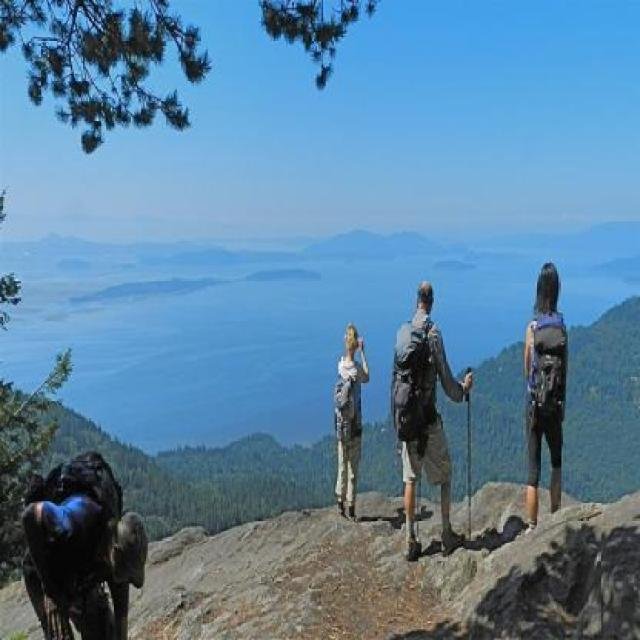backpack: (22, 449, 126, 520), (391, 318, 432, 444), (526, 310, 569, 428), (334, 377, 358, 446)
